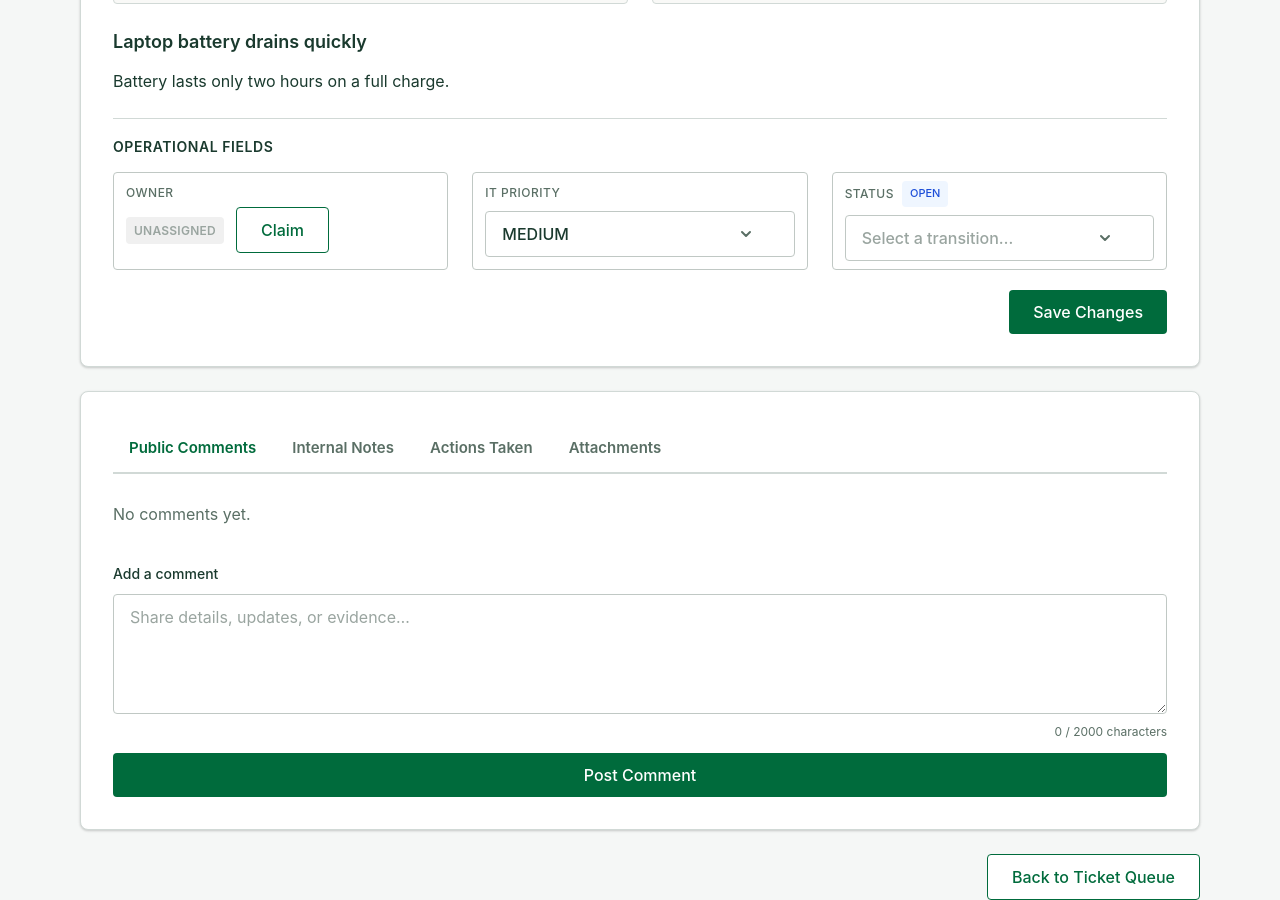
StaffTicketDetail (UI-08) › validates the comment composer before any request
This screenshot has width=1280, height=900.
(page scrolled)
Check: the element with test id "operational-panel" is shown, box [113,118,1167,334]
Click the button with test id "post-comment-btn" at x=640, y=775, box [113,753,1167,797]
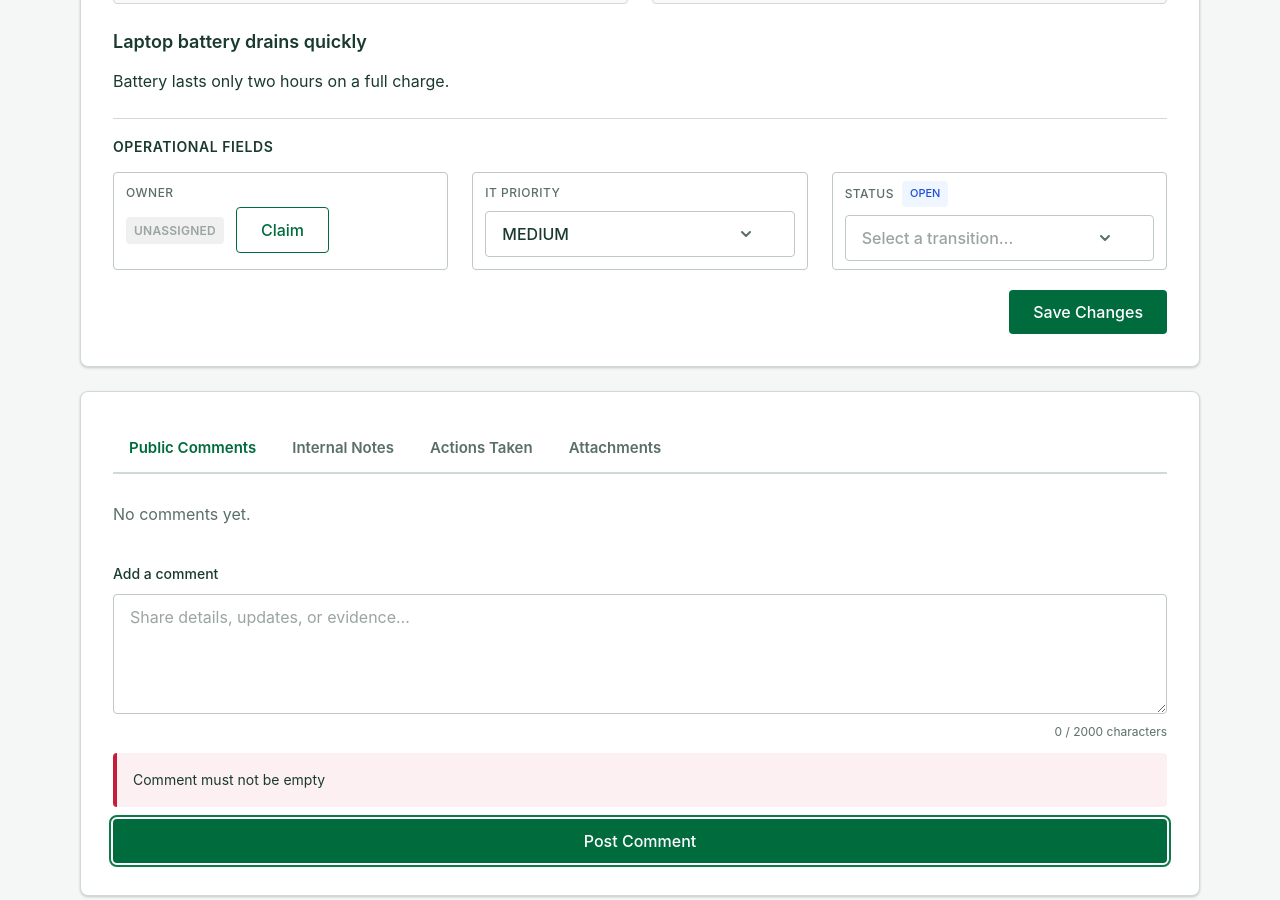
Check: the message with test id "comment-error" reads "Comment must not be empty", box [133,771,325,788]
